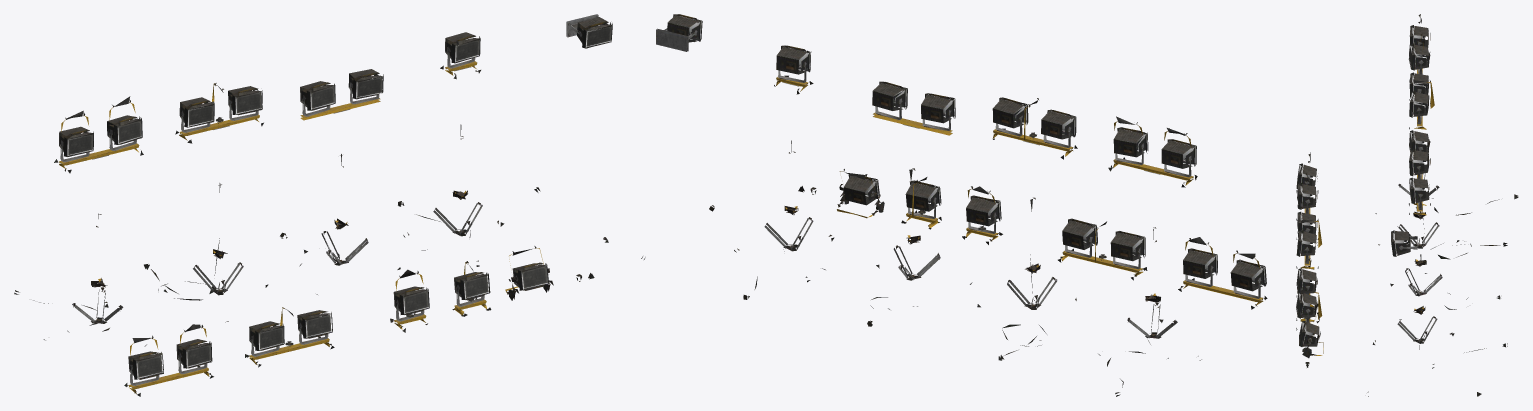
File: flood_light.glb
3 views of the same model, side by side, from view 1: azimuth 30°, elevation 25°; view 2: azimuth 150°, elevation 25°; view 3: azimuth 270°, elevation 25° (orthographic). The views are drawn at different scales.
Parts seen in each view (by area): view 1: flood_light; view 2: flood_light; view 3: flood_light.
Part boxes in pixels (left/top/right/bottom): flood_light: left=14, top=14, right=612, bottom=396; flood_light: left=641, top=14, right=1267, bottom=396; flood_light: left=1296, top=14, right=1518, bottom=396.
Size of the model in its own units: 4.04 by 1.6 by 1.75.
Materials: 2 (2 with a texture image).
